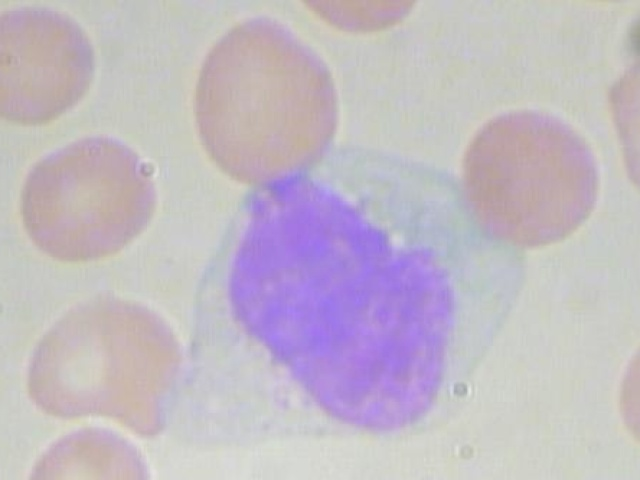RBC: (180, 4, 351, 193), (441, 100, 613, 249), (19, 292, 191, 440), (7, 127, 166, 271), (0, 0, 101, 140), (6, 413, 168, 480), (598, 33, 640, 208), (608, 301, 640, 454), (0, 0, 29, 73), (0, 286, 9, 444)
WBC: (157, 144, 527, 474)
